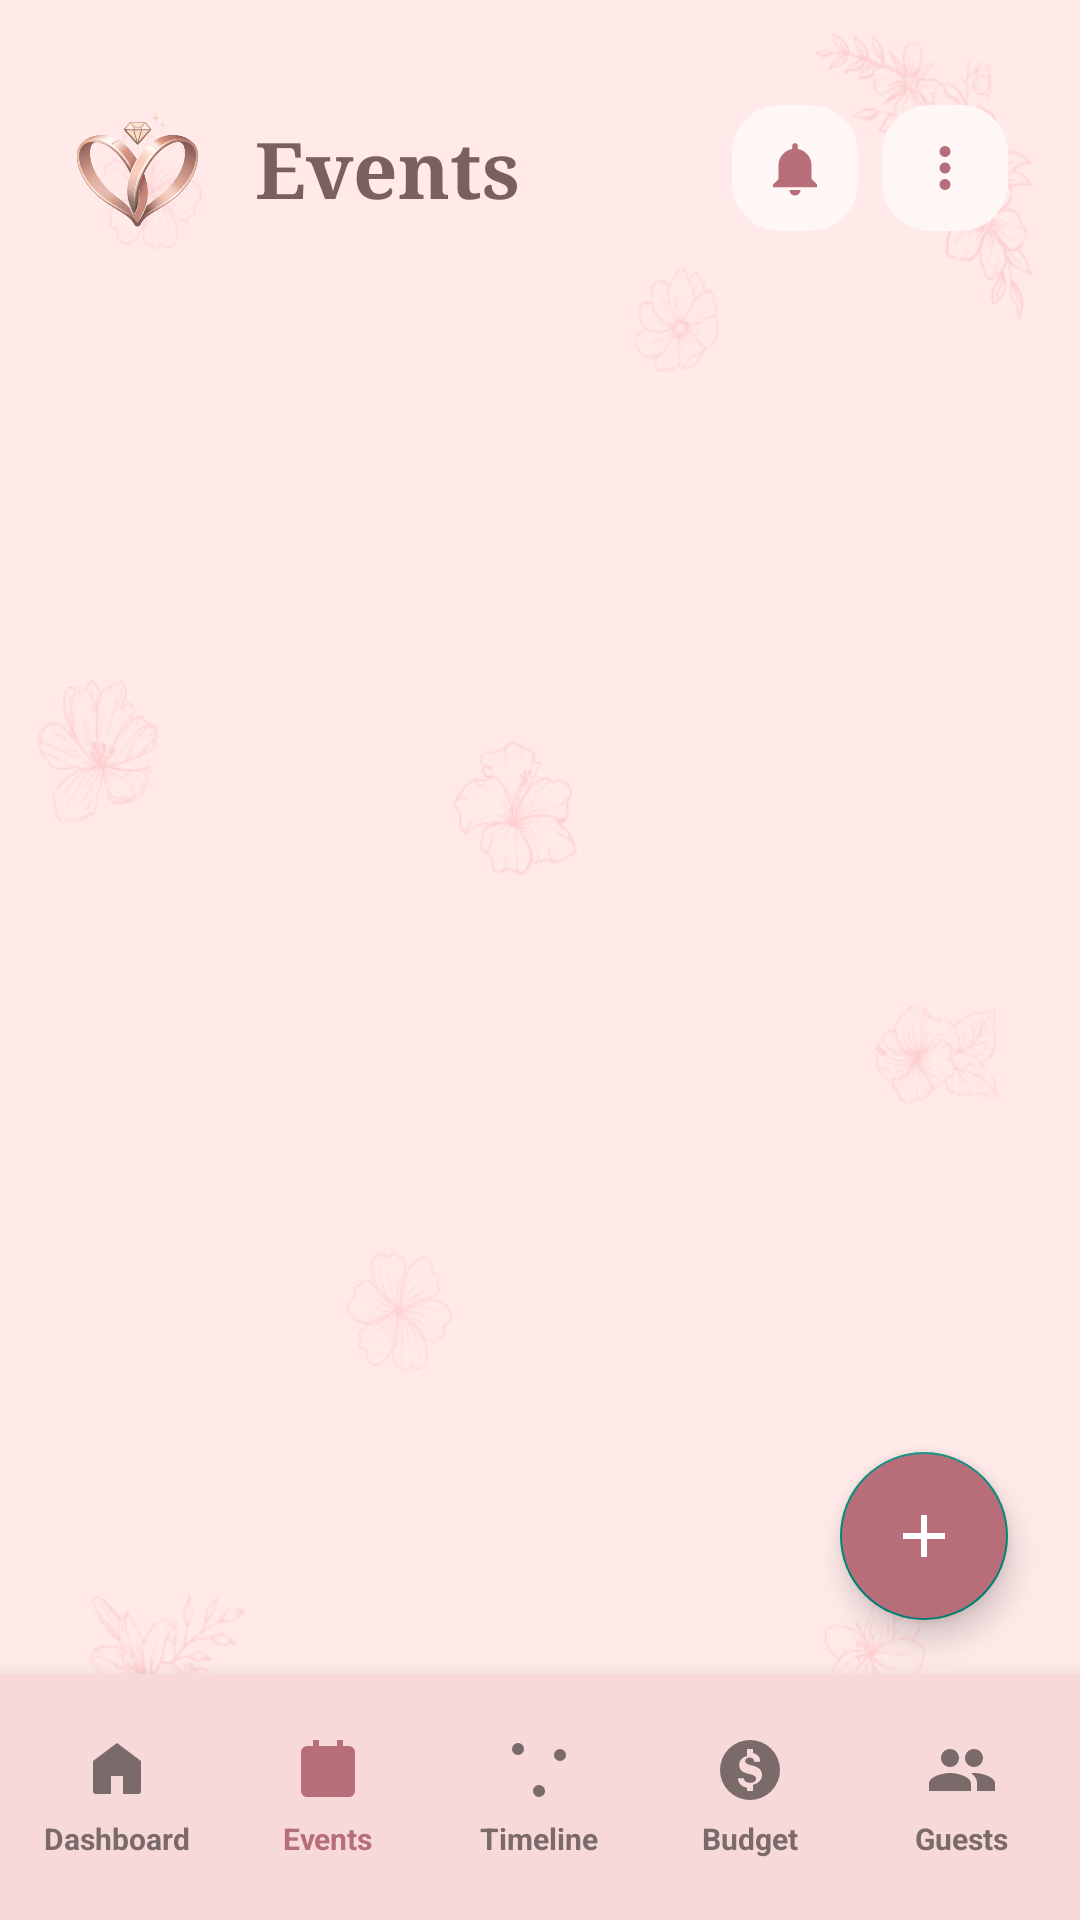

Icons on this 1080 x 1920 Android screen, each with its box as [x1, y1, x2, y2]:
add: [840, 1452, 1008, 1620]
bell: [773, 143, 817, 196]
more: [882, 105, 1008, 231]
